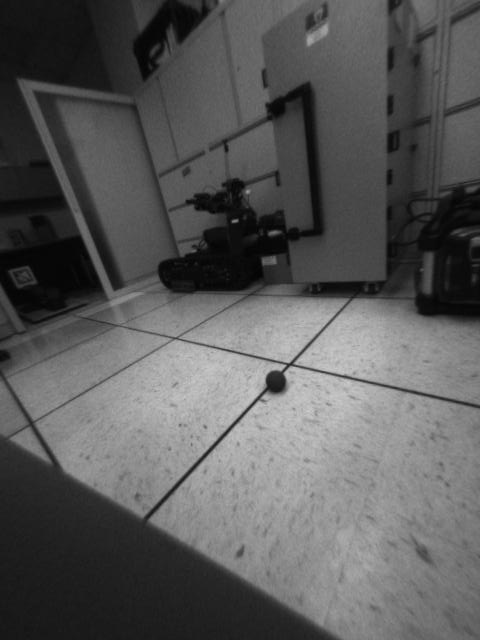dogtoy: (258, 363, 296, 400)
